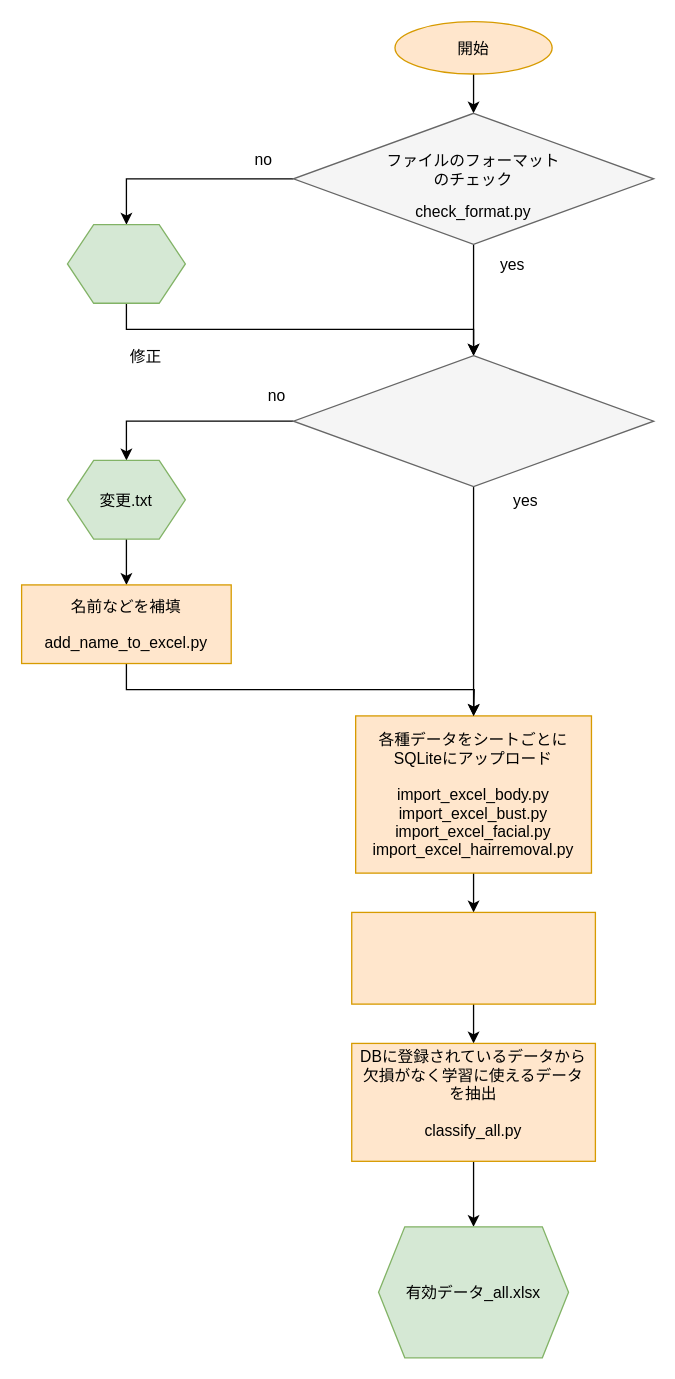
Image size: 675x1379. Some labels were removed from this diagram. The centre of each missing label's shape, as x and y in pixels:
"DB登録時に日付の形式が 変わったものを修正 set_Date.py" belongs at pixel 472 957.
"例外.txt" belongs at pixel 125 263.
"各シートの名前の記入漏れ のチェック check_name.py" belongs at pixel 473 420.
